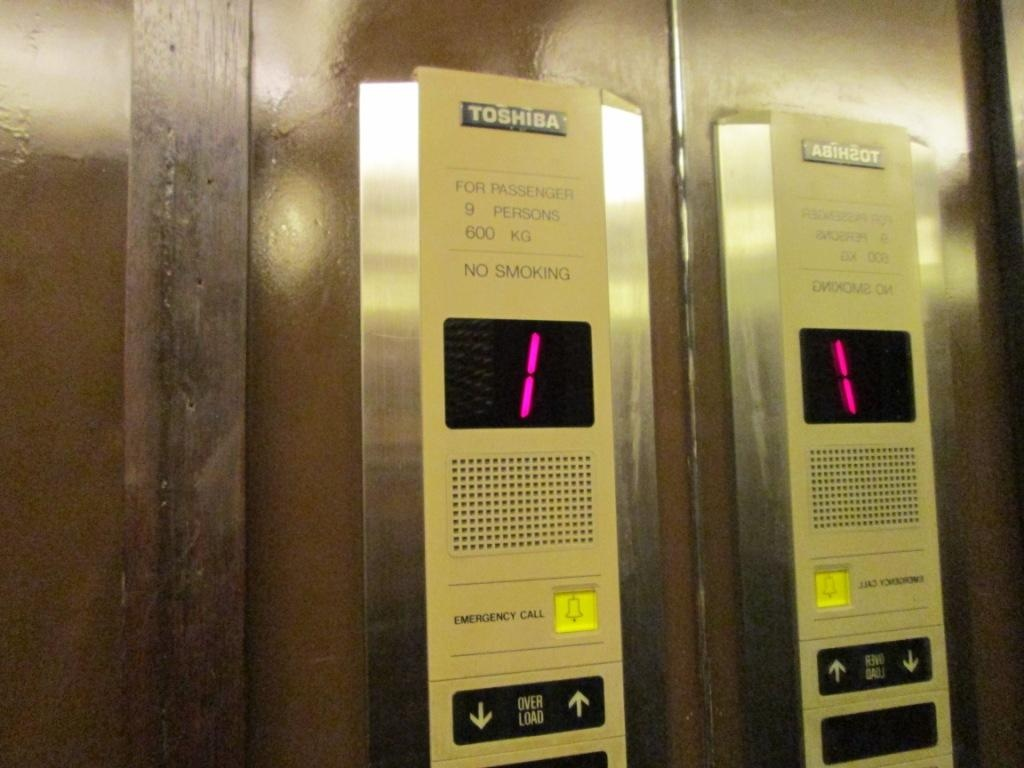alarm: (549, 584, 601, 635), (811, 565, 855, 612)
down: (889, 636, 931, 683)
led: (443, 318, 597, 430), (798, 327, 919, 425)
text_blur: (856, 641, 893, 689)
up: (816, 647, 862, 697)
